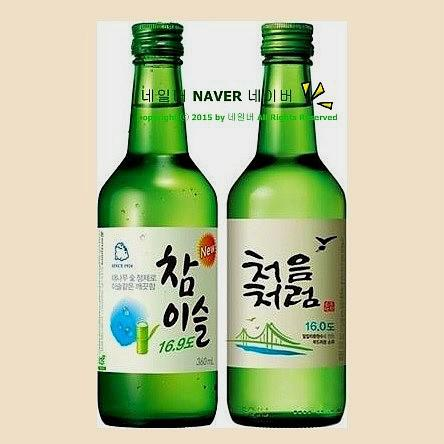soju: (93, 21, 347, 427)
